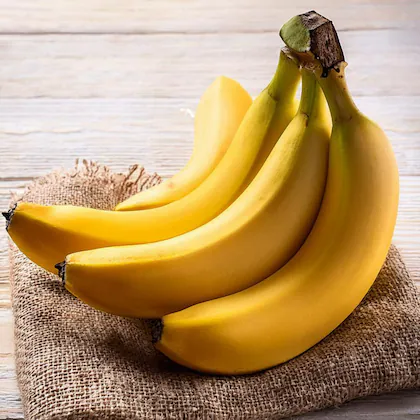banana: (9, 13, 405, 372)
